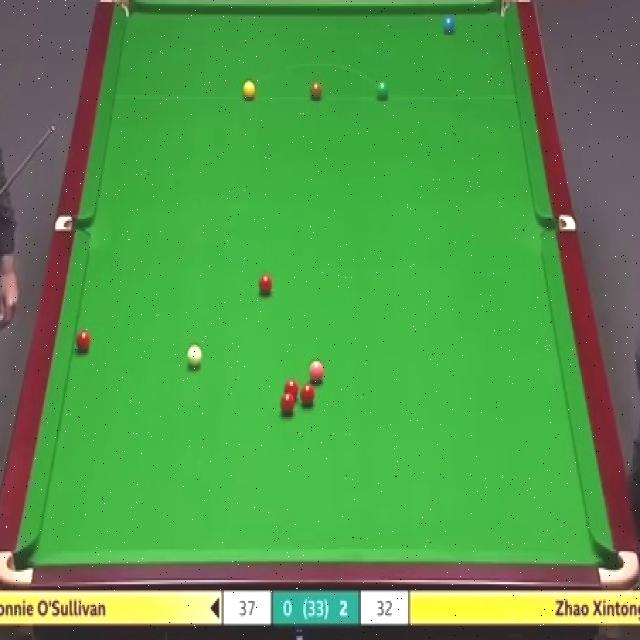blue-ball: (441, 10, 457, 36)
brown-ball: (310, 81, 324, 102)
green-ball: (376, 80, 390, 102)
pink-ball: (306, 360, 324, 385)
red-ball: (258, 272, 274, 298), (279, 393, 296, 417), (299, 383, 316, 406), (74, 330, 90, 354), (282, 379, 300, 400)
white-ball: (186, 343, 204, 372)
yellow-ball: (242, 80, 256, 101)
